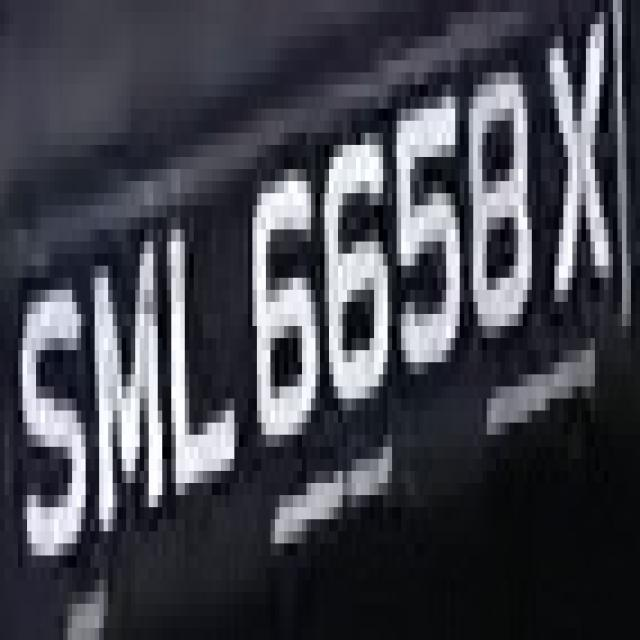5: (392, 72, 473, 422)
6: (311, 108, 397, 434), (239, 145, 324, 471)
8: (451, 61, 541, 410)
L: (167, 194, 225, 532)
M: (86, 206, 162, 544)
S: (9, 241, 90, 604)
X: (546, 24, 626, 314)
